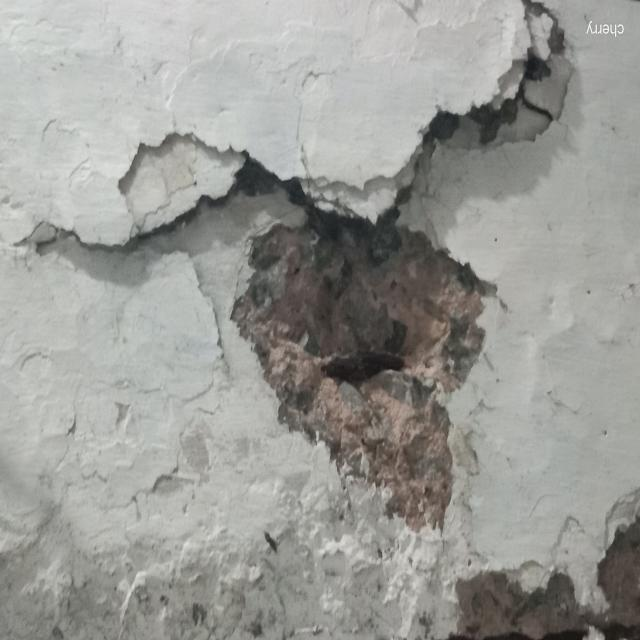spalling: (25, 0, 564, 536), (450, 518, 639, 639)
